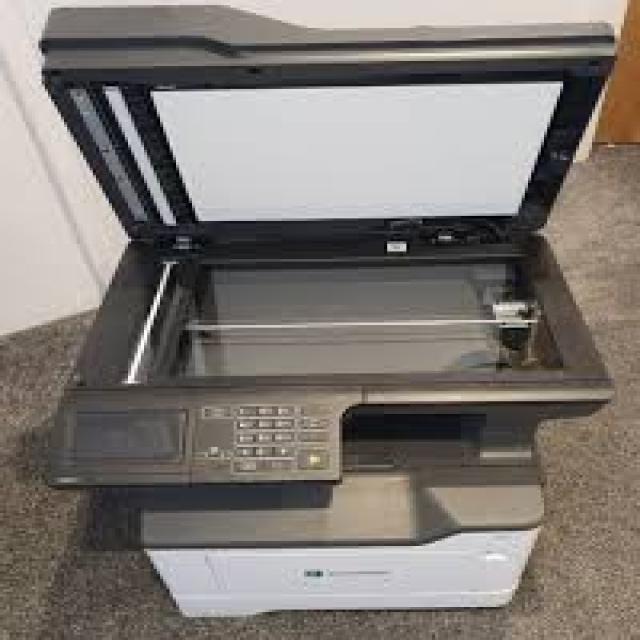printer: (35, 3, 618, 617)
